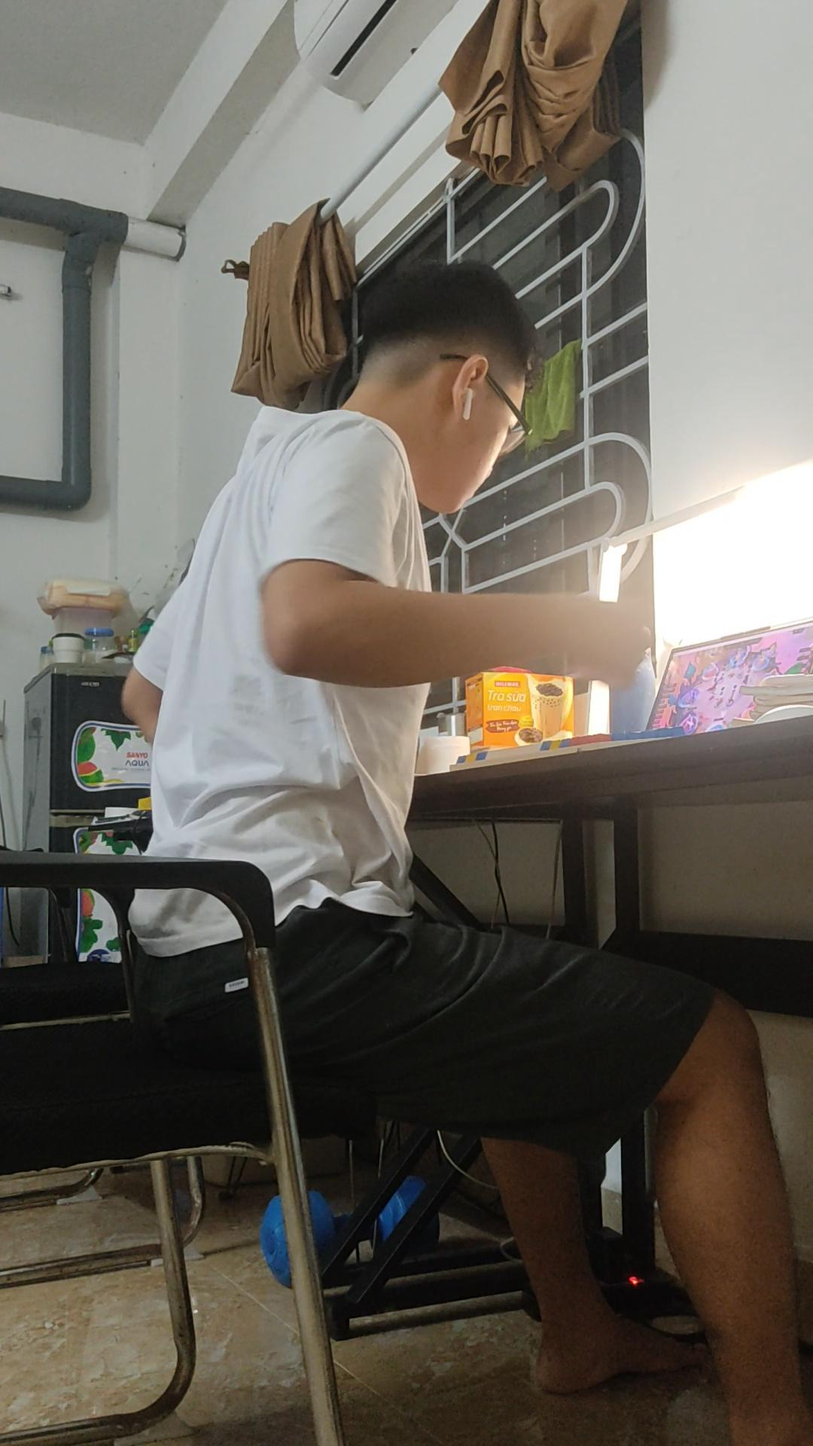GoodPosture: (124, 264, 812, 1445)
